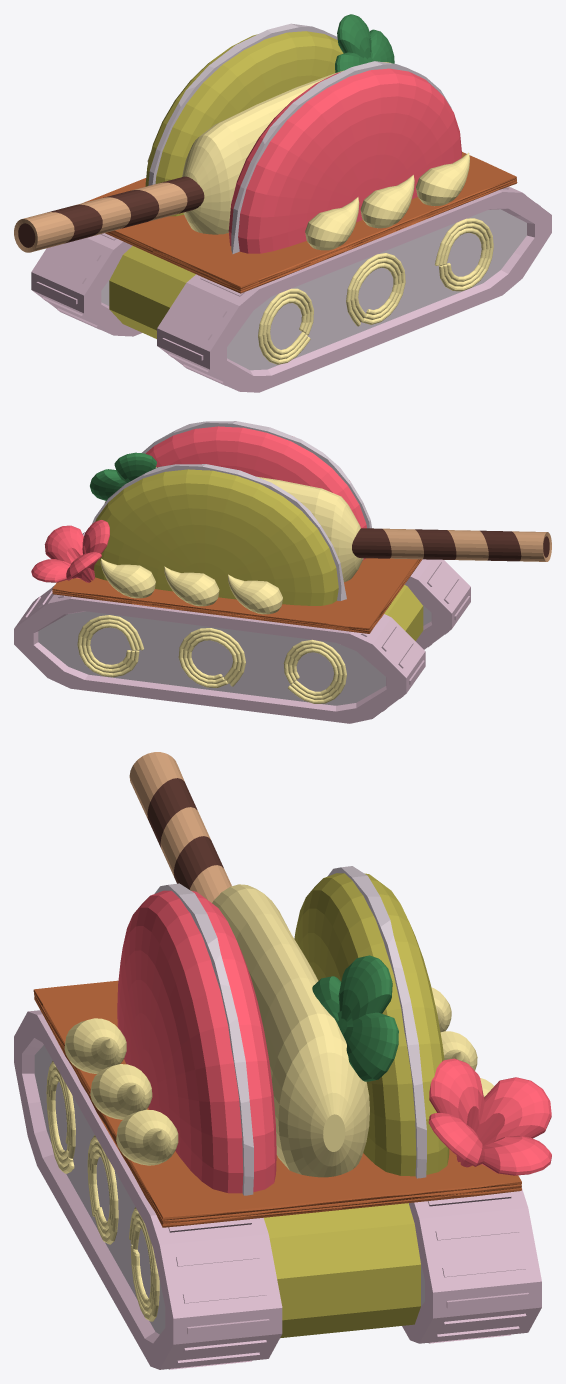
Rendered from tanks3.fbx.
The picture shows the model from 3 angles, top to bottom: view 1: azimuth 30°, elevation 25°; view 2: azimuth 150°, elevation 25°; view 3: azimuth 270°, elevation 25°; orthographic projection. The views are drawn at different scales.
Parts seen in each view (by area): view 1: Tank_macaron; view 2: Tank_macaron; view 3: Tank_macaron.
Part boxes in pixels (x1,y1,x2,y2): Tank_macaron: (14, 14, 551, 392); Tank_macaron: (14, 421, 551, 723); Tank_macaron: (14, 752, 551, 1369).
Size of the model in its own units: 2031 by 895 by 1210.
